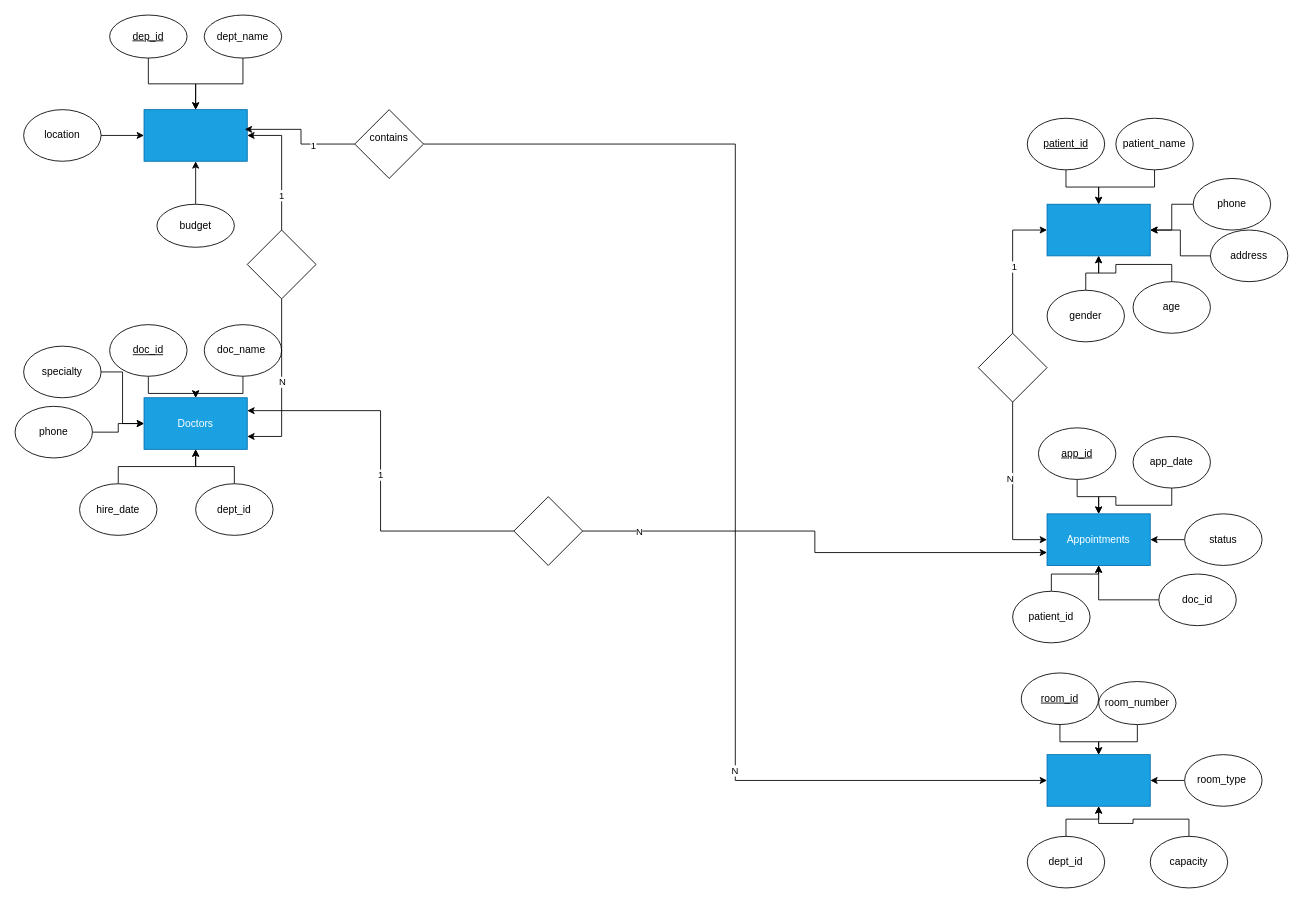
The diagram is 1303 pixels wide and 903 high, and some of its shapes have lost their labels. The centre of each missing label's shape, as x and y in pixels:
attends: the point at 548,530
Departments: the point at 195,135
empioys: the point at 281,264
Patients: the point at 1098,229
Rooms: the point at 1098,780
schedules: the point at 1012,367
